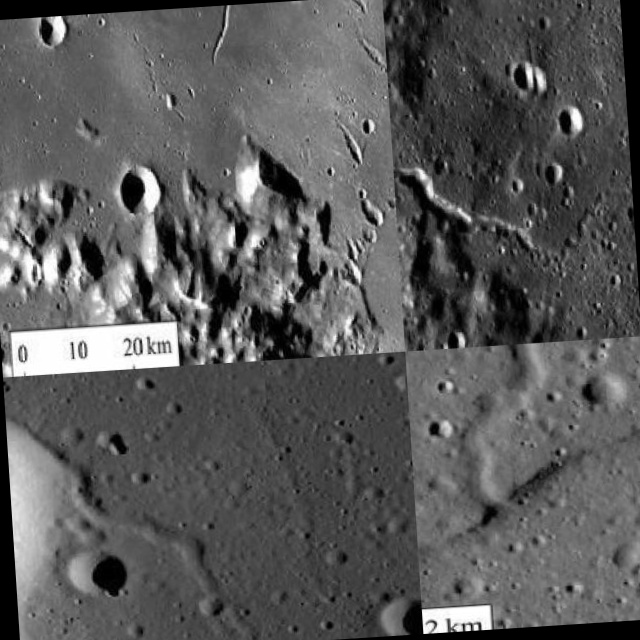crater: (16, 0, 402, 323), (403, 72, 615, 286), (58, 456, 230, 638), (449, 357, 543, 531)
